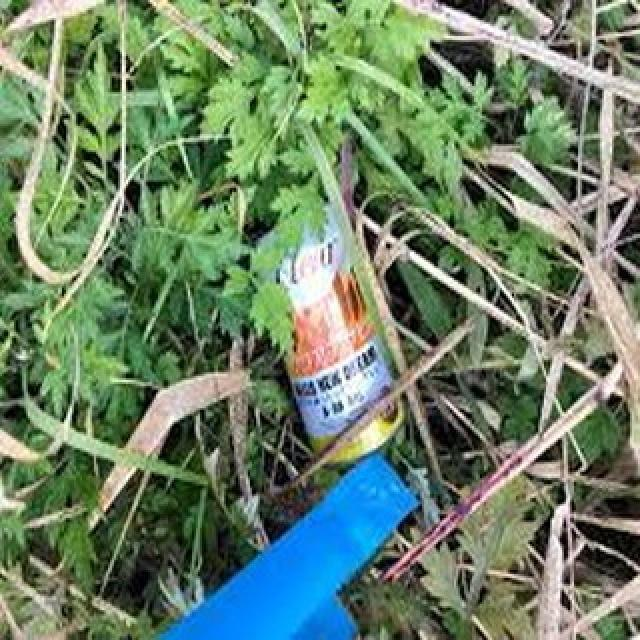can: (254, 198, 406, 464)
